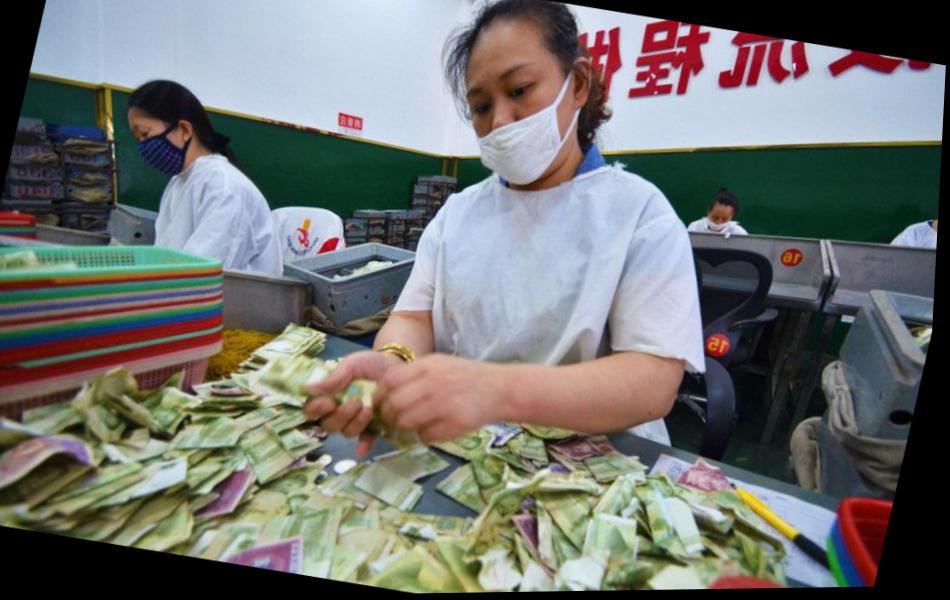OK: (119, 103, 201, 180)
WRONG: (447, 50, 588, 194), (708, 212, 736, 239)
